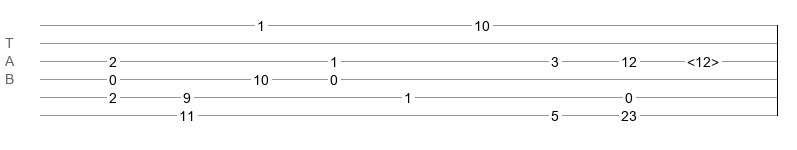0: (109, 72, 117, 82), (330, 72, 338, 82), (625, 90, 633, 100)
1: (257, 18, 265, 28), (330, 54, 338, 64), (404, 90, 412, 100)
10: (253, 72, 269, 82), (474, 18, 490, 28)
11: (179, 108, 195, 118)
12: (621, 54, 637, 64)
2: (109, 54, 117, 64), (109, 90, 117, 100)
23: (621, 108, 637, 118)
3: (551, 54, 559, 64)
5: (551, 108, 559, 118)
9: (183, 90, 191, 100)
harmonic: (687, 54, 719, 64)
